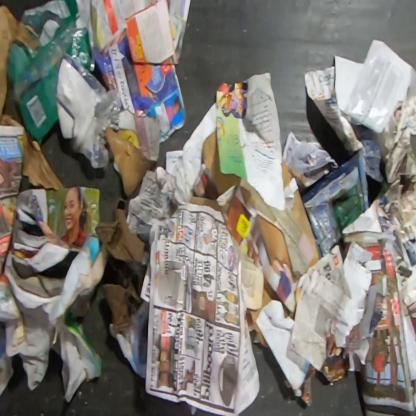cardboard: (257, 158, 321, 286), (95, 198, 148, 332), (104, 124, 153, 201), (201, 131, 242, 196)
soft_plastic: (7, 0, 95, 144), (55, 53, 126, 170)
